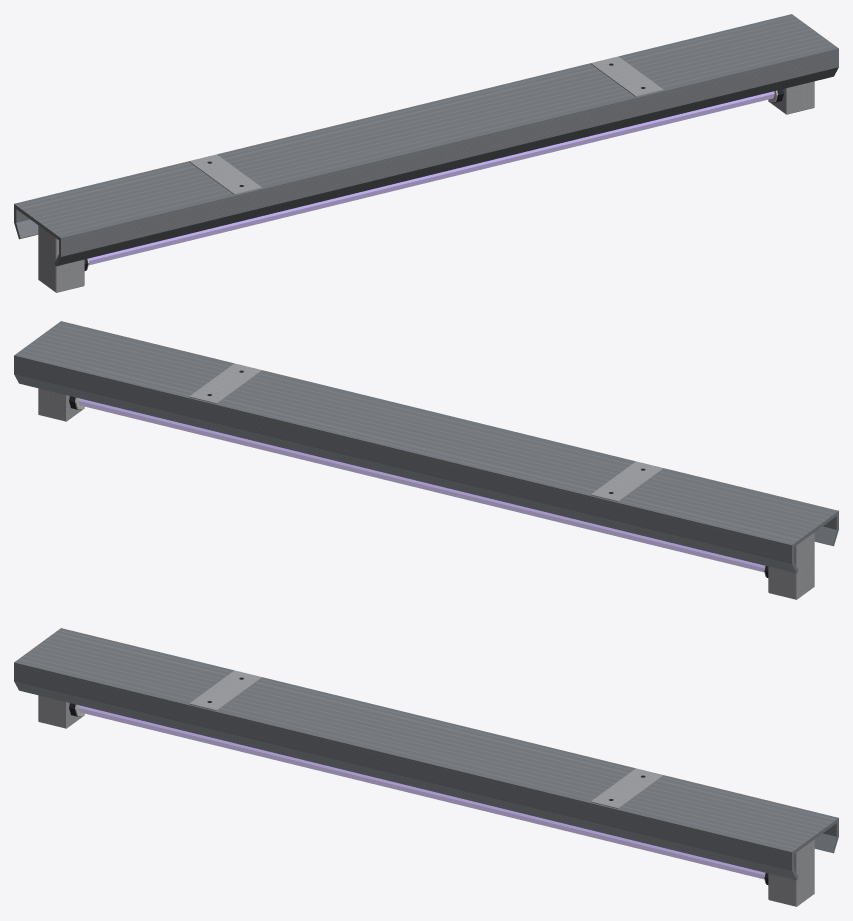
File: blacklight_fixture.glb
The picture shows the model from 3 angles, top to bottom: view 1: azimuth 30°, elevation 25°; view 2: azimuth 150°, elevation 25°; view 3: azimuth 330°, elevation 25°; orthographic projection.
Parts seen in each view (by area): view 1: arcade_blacklight_fixture; view 2: arcade_blacklight_fixture; view 3: arcade_blacklight_fixture.
Boxes of the visible parts, x1=… form: arcade_blacklight_fixture: x1=14, y1=14, x2=838, y2=292; arcade_blacklight_fixture: x1=14, y1=321, x2=838, y2=599; arcade_blacklight_fixture: x1=14, y1=628, x2=838, y2=906.
Bounding box in the file's own units: 1.24 × 0.105 × 0.13.
2 materials, 2 textured.
